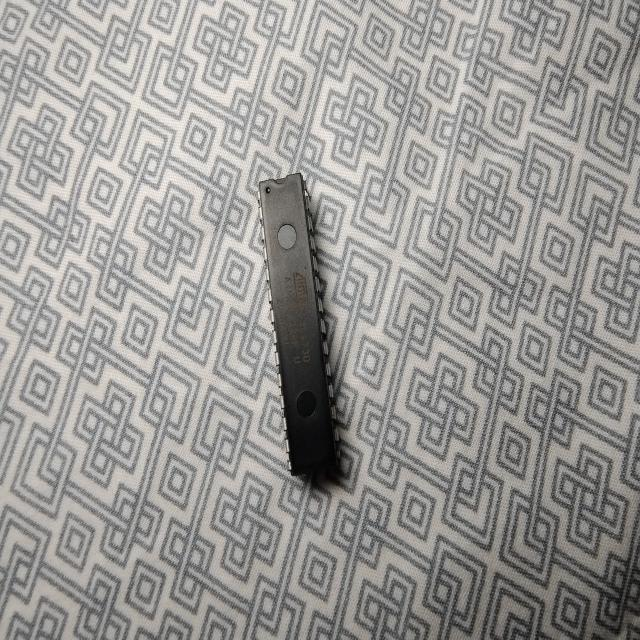atmega: (255, 170, 343, 480)
